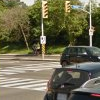crosswalk: (0, 61, 59, 75), (0, 78, 50, 91)
